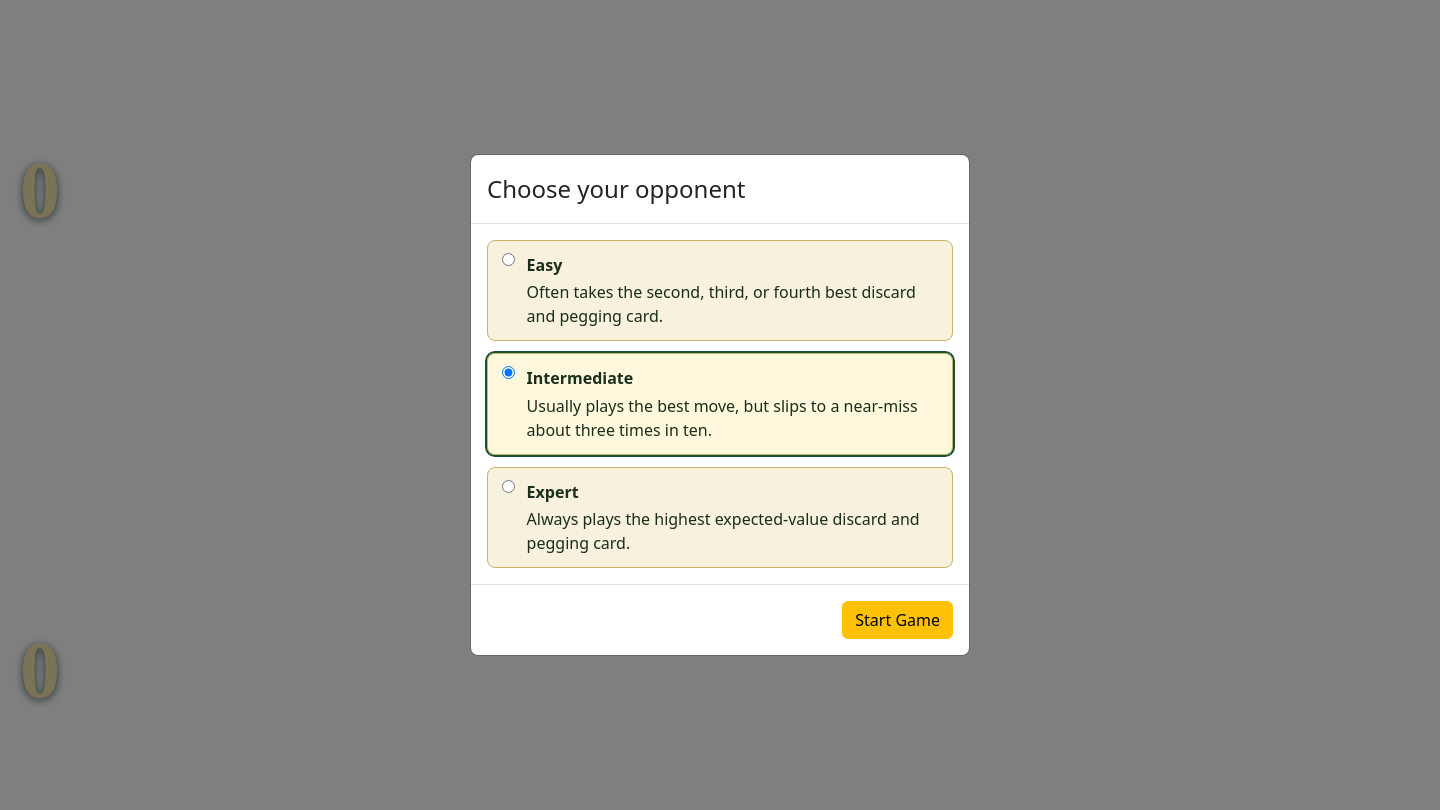
Test: T8 difficulty gate › shows the difficulty dialog and hides Start The Round until confirm
expect the dialog is shown: met, box [470,154,970,656]
expect the text "Choose your opponent" is shown: met, box [487,171,746,207]
Click the button "Start Game" at (898, 620), box [842,601,953,639]
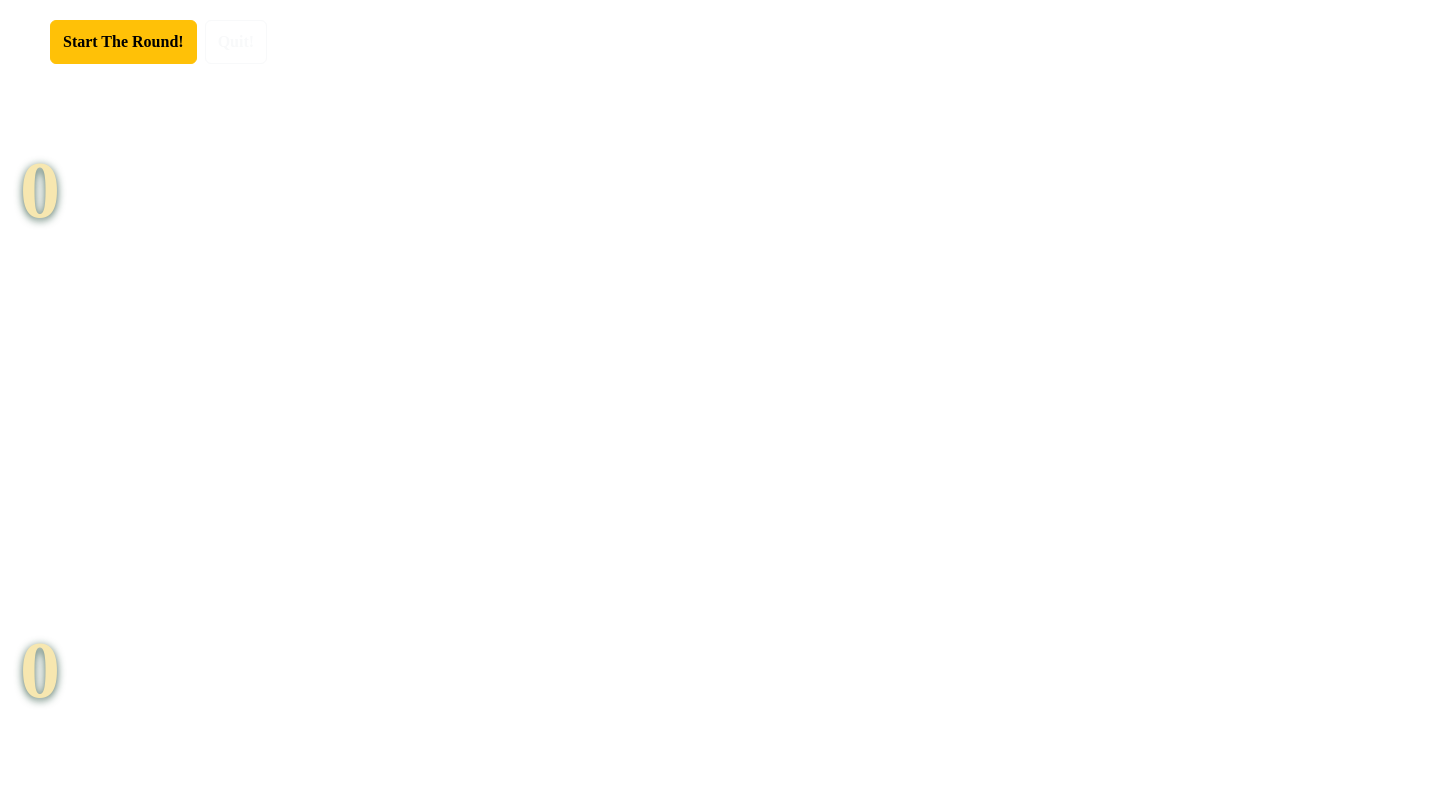
expect the button "Start The Round!" is shown: met, box [50,20,197,64]
